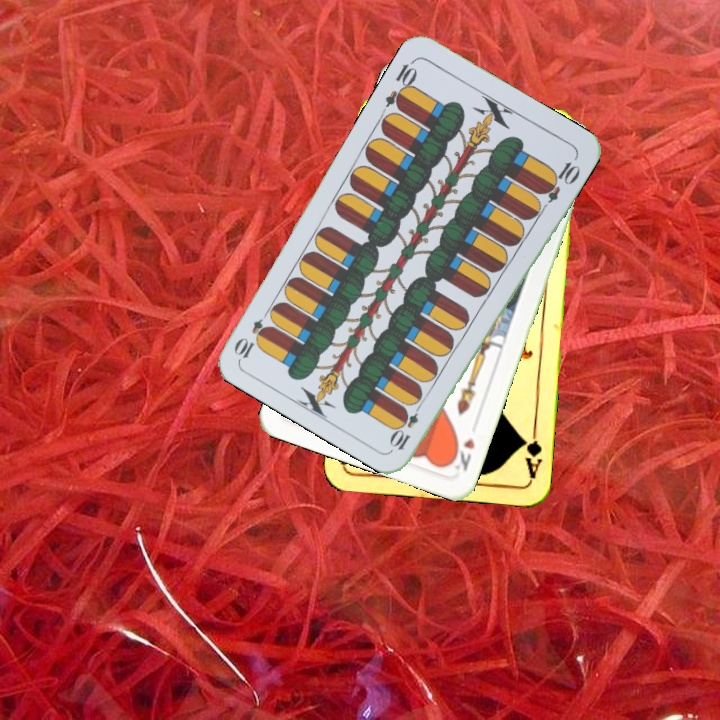E10: (380, 55, 420, 113), (387, 397, 426, 453)
GA: (518, 422, 545, 481)
HK: (445, 434, 478, 474)
